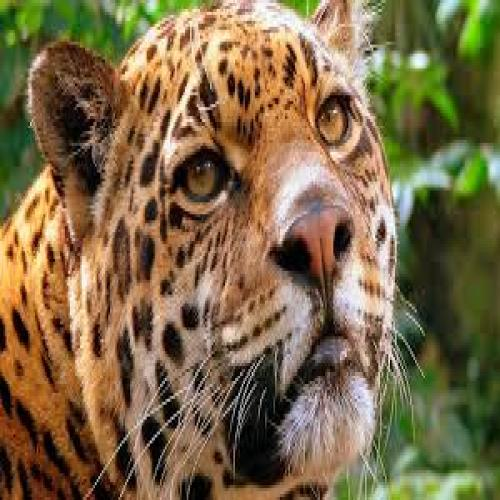jaguar_not-endangered: (41, 5, 396, 495)
